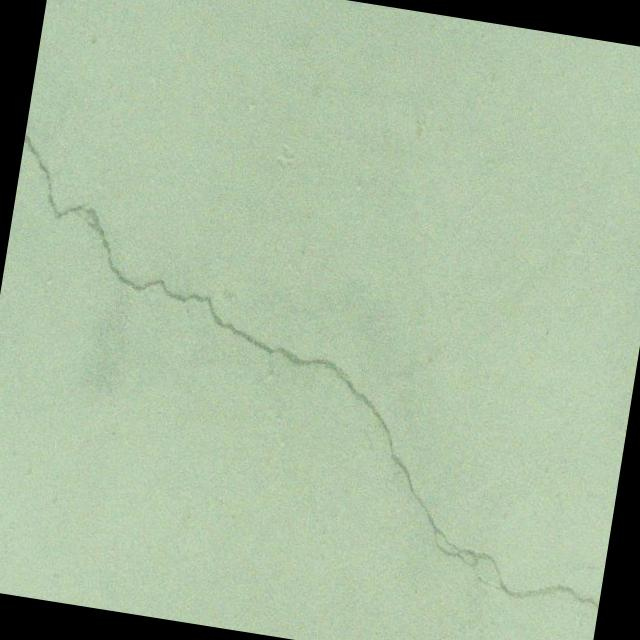crack: (0, 133, 640, 612), (565, 562, 605, 582)
